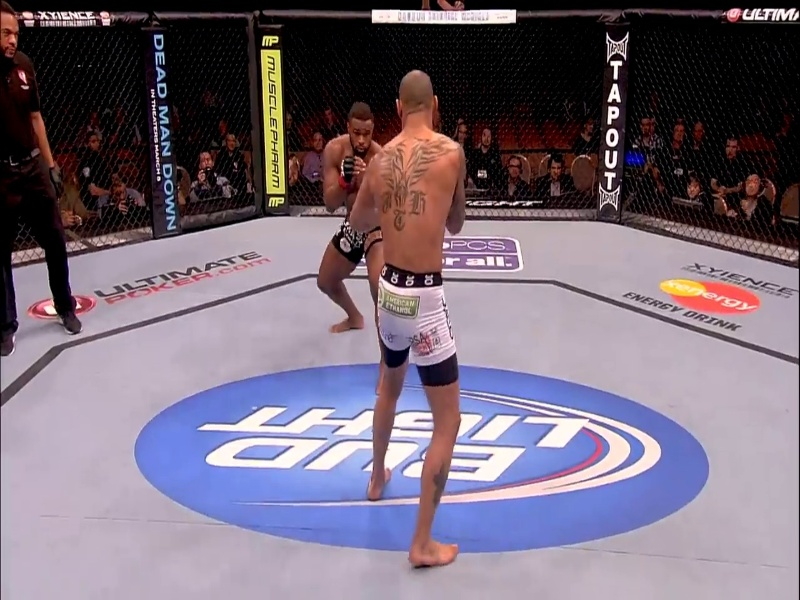fighter: (349, 66, 483, 574), (313, 86, 387, 341)
